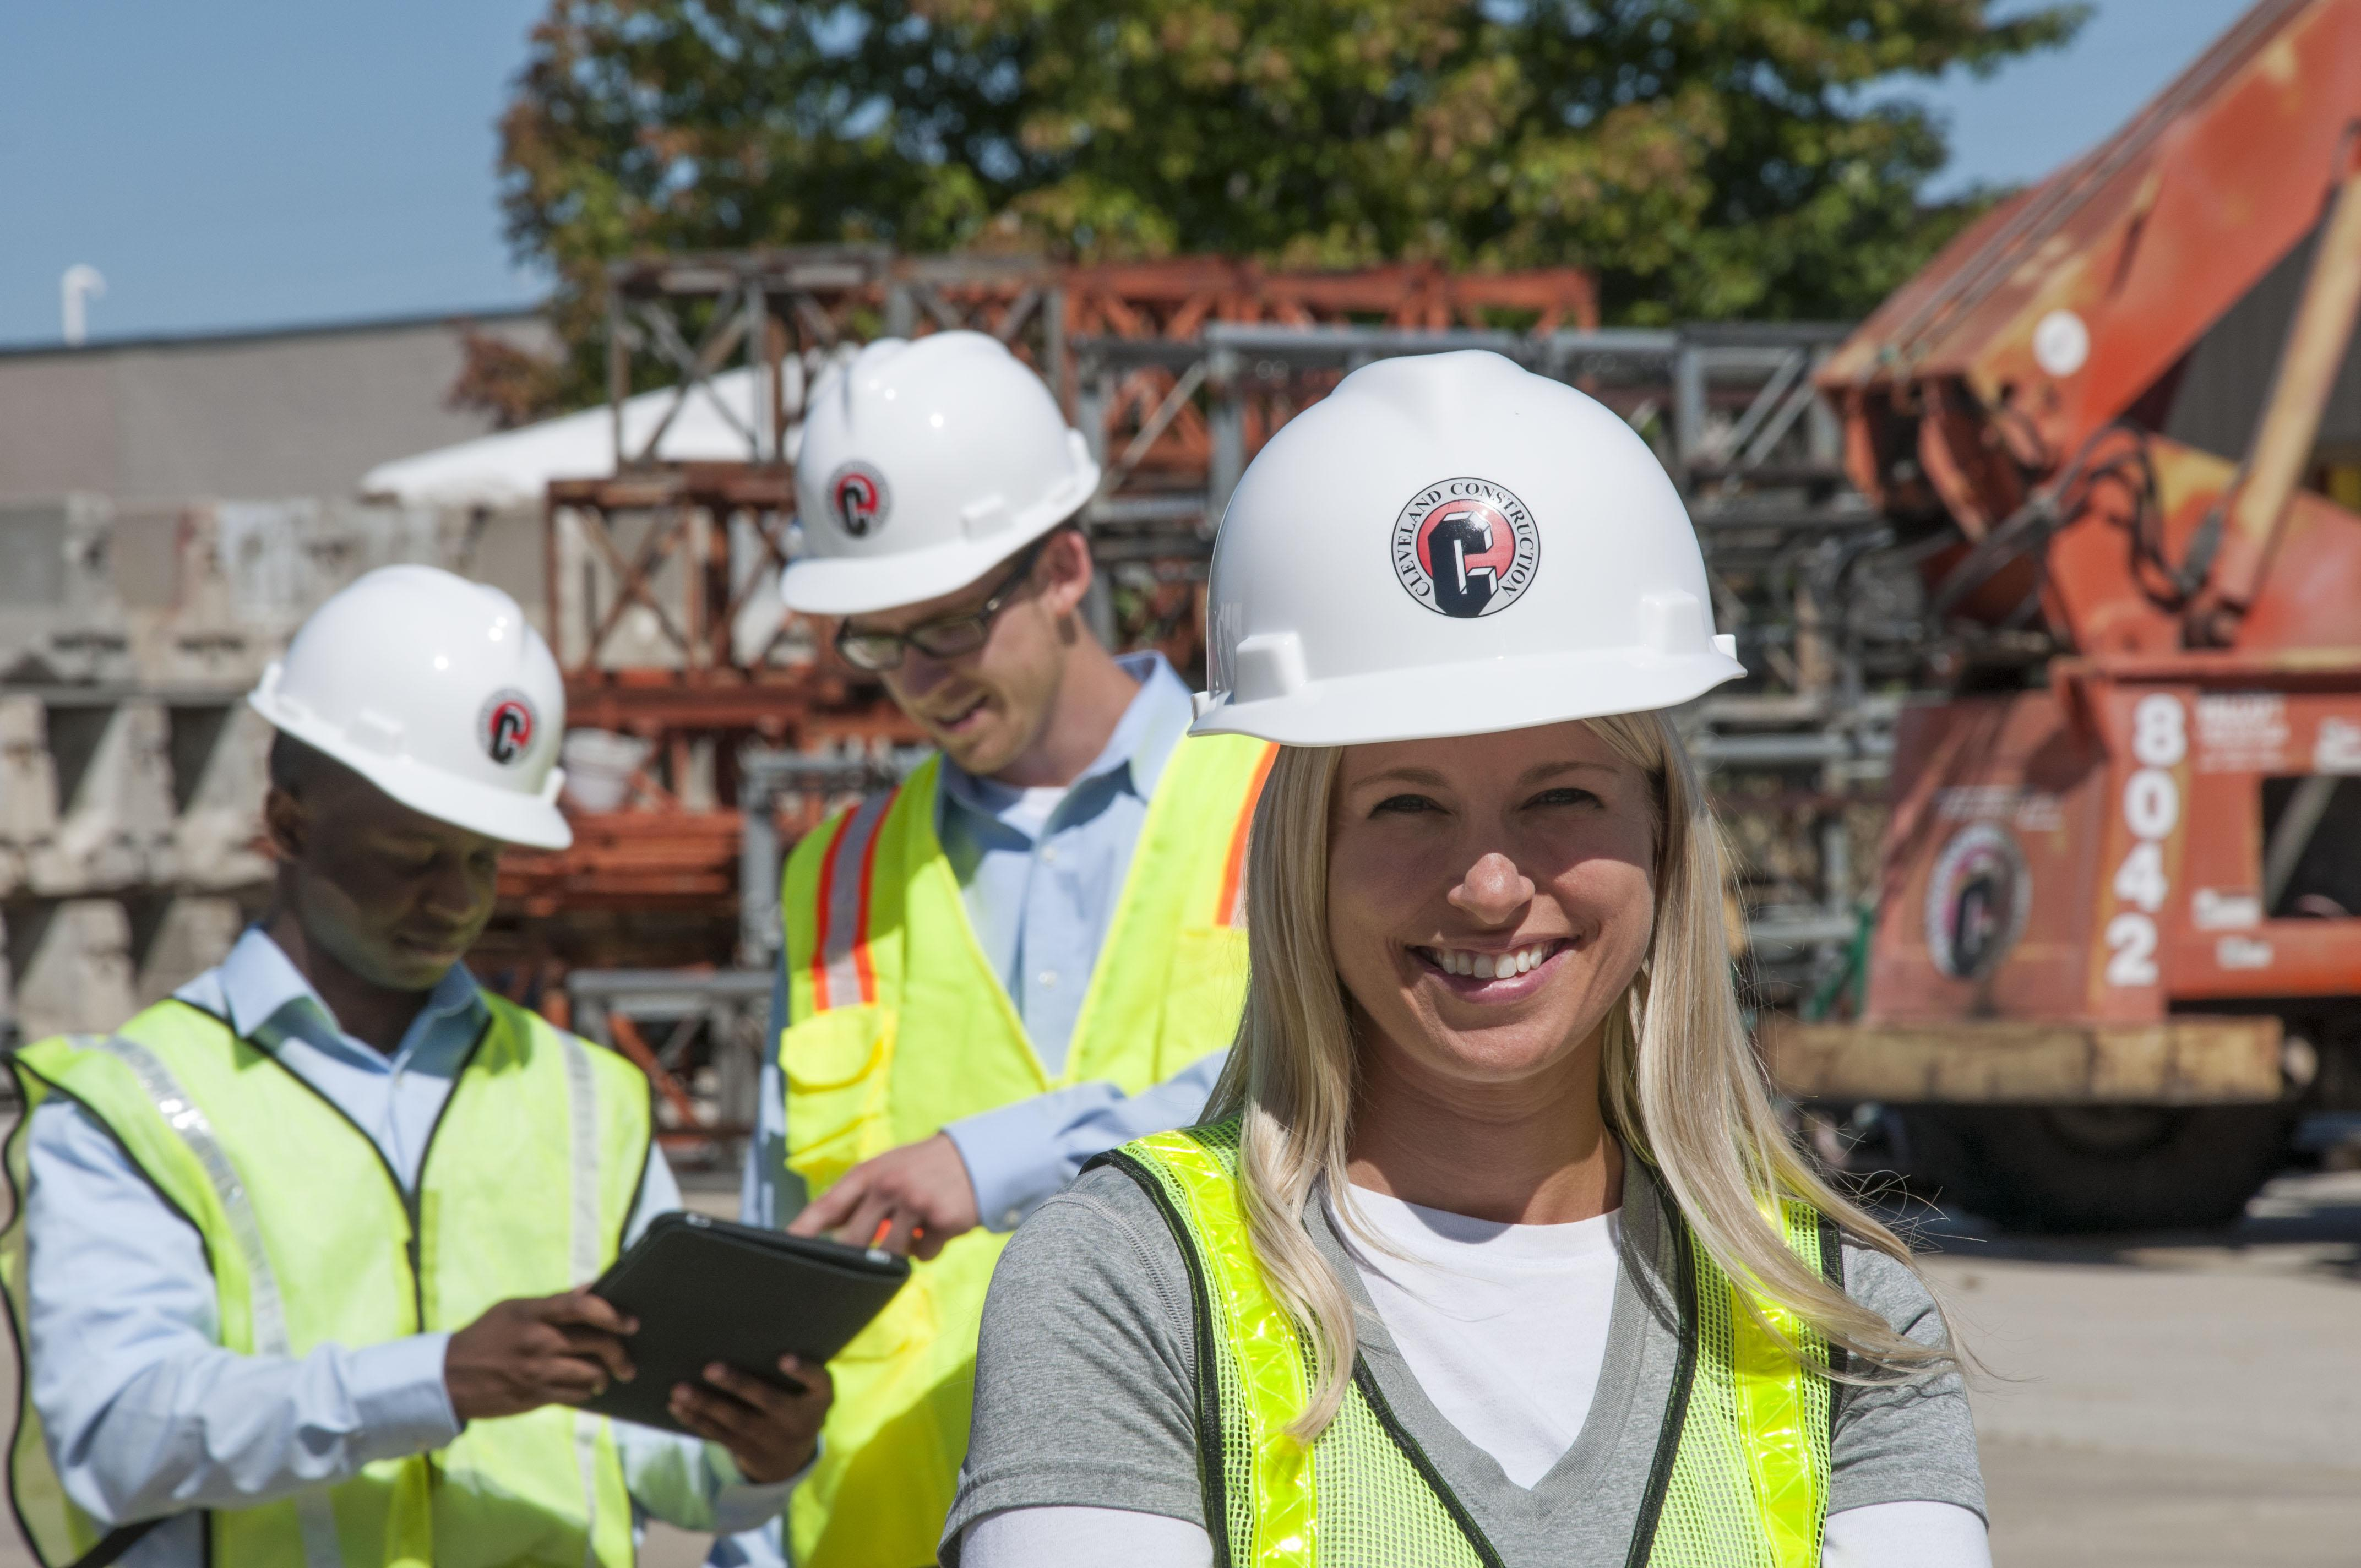helmet: (1204, 348, 1740, 744), (254, 562, 579, 845), (791, 345, 1096, 612)
